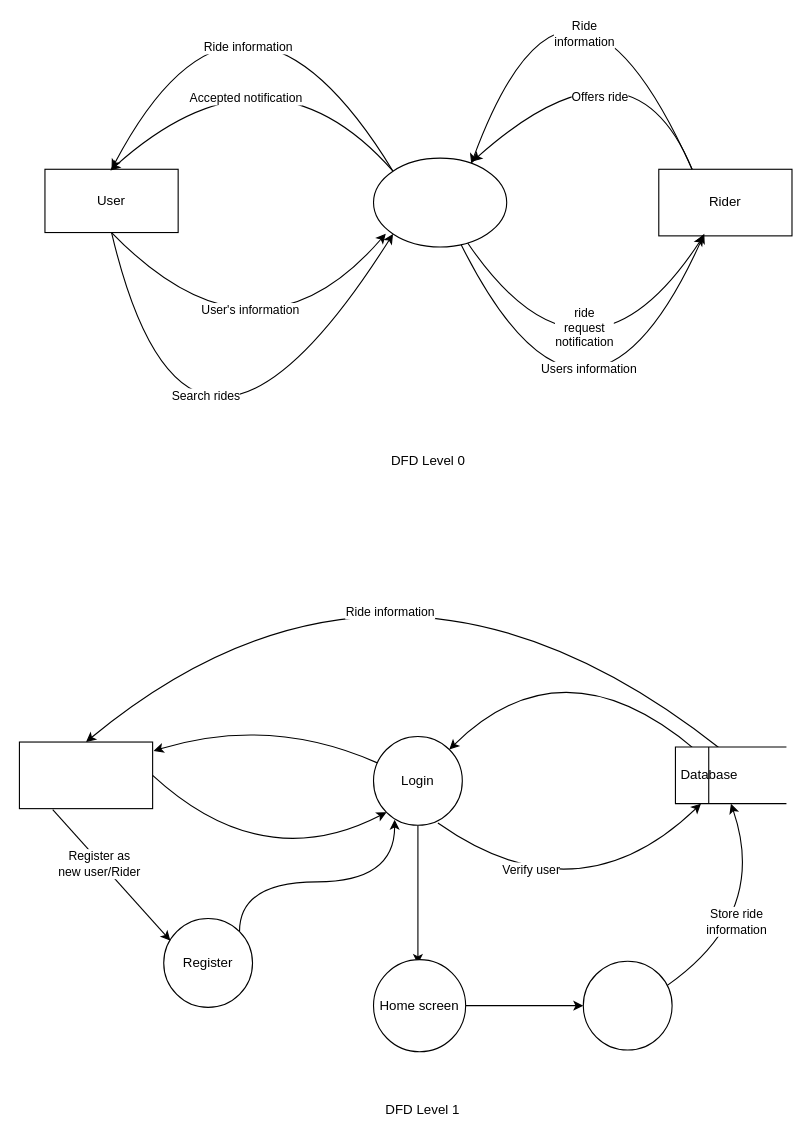
This 811x1144 diagram has some shape labels left out. Here are the shapes that lost their labels. From the top down, the centre of each, then its label:
the point at 439,202: Ride Sharing App
the point at 85,775: User/Rider
the point at 627,1005: offer/search ride
